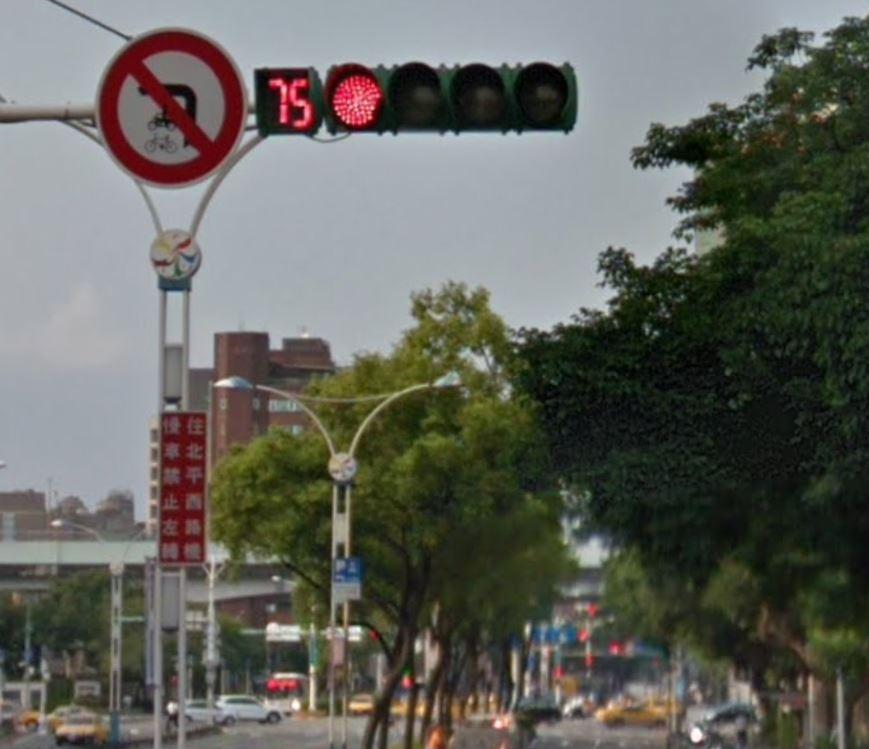red_traffic_light: (250, 59, 582, 137)
